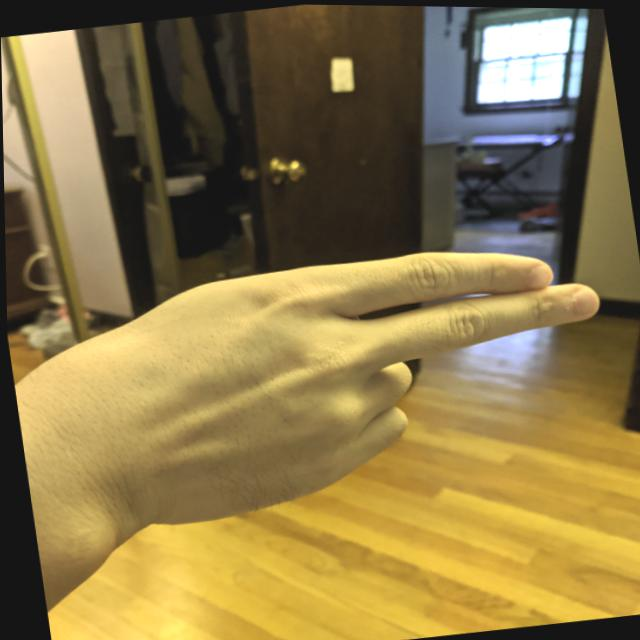H: (40, 217, 635, 548)
